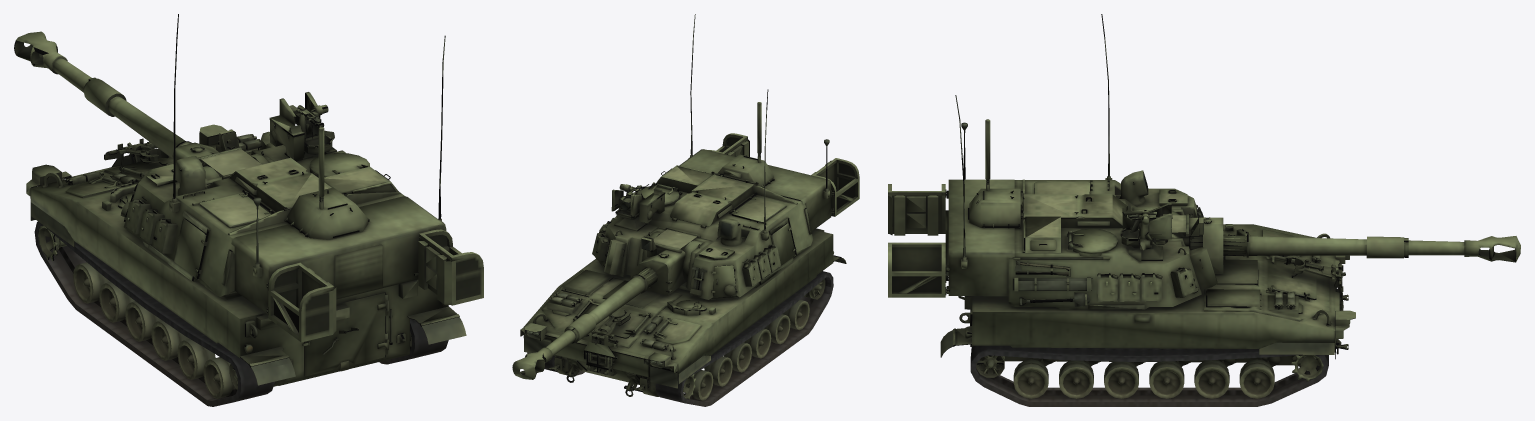
3 views of the same model, side by side, from view 1: azimuth 30°, elevation 25°; view 2: azimuth 150°, elevation 25°; view 3: azimuth 270°, elevation 25° (orthographic). The views are drawn at different scales.
Parts seen in each view (by area): view 1: turret, hull, barrel; view 2: hull, turret, barrel; view 3: hull, turret, barrel.
Boxes of the visible parts, x1=… form: turret: x1=120, y1=14, x2=483, y2=342; hull: x1=26, y1=124, x2=466, y2=406; barrel: x1=14, y1=31, x2=204, y2=166; hull: x1=520, y1=228, x2=846, y2=406; turret: x1=592, y1=14, x2=859, y2=299; barrel: x1=512, y1=267, x2=657, y2=379; hull: x1=940, y1=224, x2=1355, y2=406; turret: x1=888, y1=14, x2=1245, y2=309; barrel: x1=1190, y1=234, x2=1520, y2=262.
Bounding box in the file's own units: 3.11 × 4.94 × 9.12.
1 material, 1 textured.
